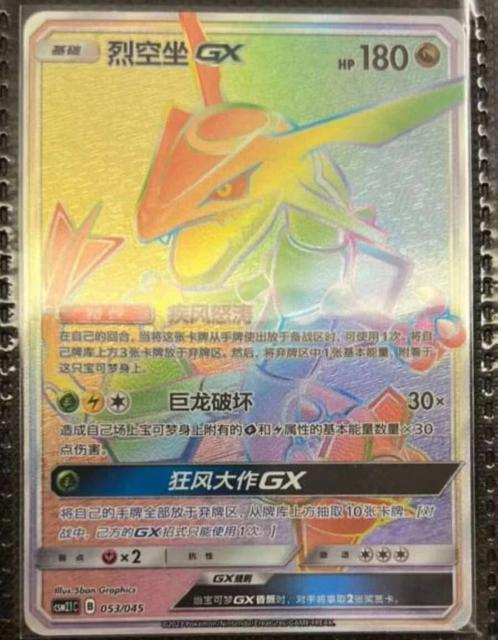Card: (18, 6, 478, 639)
Name: (100, 34, 250, 71)
